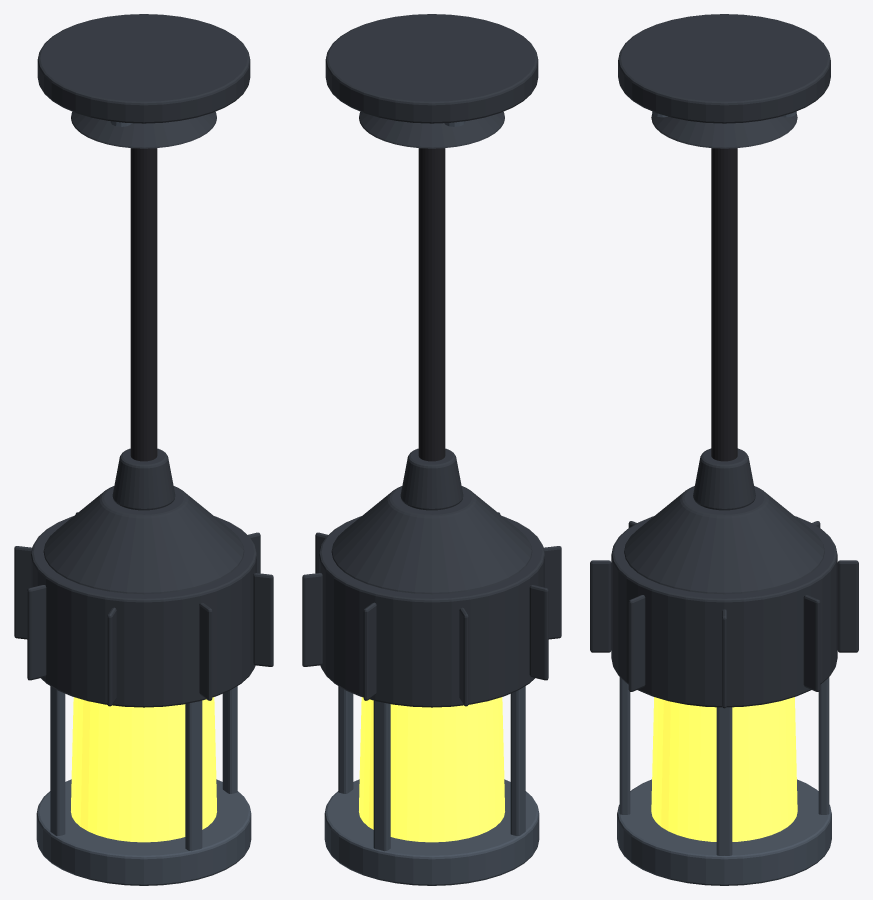
Rendered from cantina_07_hanging_lamp.glb.
The picture shows the model from 3 angles, left to right: view 1: azimuth 30°, elevation 25°; view 2: azimuth 150°, elevation 25°; view 3: azimuth 270°, elevation 25°; orthographic projection.
Visible parts, largest first — view 1: Lamp_Housing, Lamp_Ceiling_Mount, Lamp_Protective_Cage, Lamp_Luminous_Chamber, Lamp_Suspension_Cable; view 2: Lamp_Housing, Lamp_Ceiling_Mount, Lamp_Protective_Cage, Lamp_Luminous_Chamber, Lamp_Suspension_Cable; view 3: Lamp_Housing, Lamp_Ceiling_Mount, Lamp_Luminous_Chamber, Lamp_Protective_Cage, Lamp_Suspension_Cable.
Part boxes in pixels (x1,y1,x2,y2): Lamp_Housing: [14, 448, 273, 707]; Lamp_Ceiling_Mount: [37, 14, 250, 148]; Lamp_Protective_Cage: [36, 686, 251, 885]; Lamp_Luminous_Chamber: [71, 697, 216, 842]; Lamp_Suspension_Cable: [130, 148, 157, 461]; Lamp_Housing: [302, 448, 561, 707]; Lamp_Ceiling_Mount: [325, 14, 538, 148]; Lamp_Protective_Cage: [324, 686, 539, 885]; Lamp_Luminous_Chamber: [359, 697, 504, 842]; Lamp_Suspension_Cable: [418, 148, 445, 461]; Lamp_Housing: [590, 448, 858, 708]; Lamp_Ceiling_Mount: [618, 14, 830, 148]; Lamp_Luminous_Chamber: [651, 697, 797, 841]; Lamp_Protective_Cage: [617, 677, 831, 885]; Lamp_Suspension_Cable: [711, 148, 737, 461].
Size of the model in its own units: 0.202 by 0.65 by 0.202.
